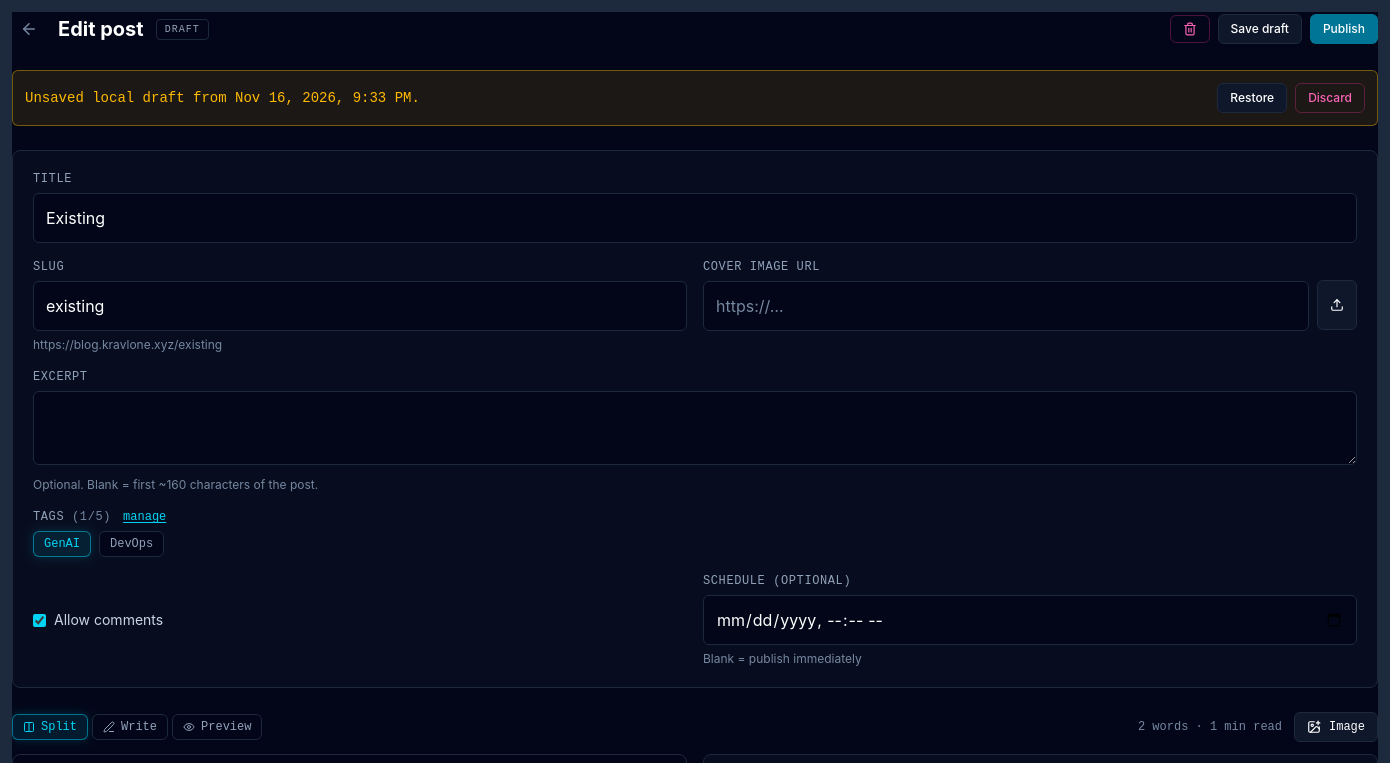
Test: PostEditor › BLG-33 offers to restore a newer local draft
The width and height of the screenshot is (1390, 763).
What coordinates should you click on to do the following:
click the button "Restore"
I would click on:
 (1252, 98)
Its box is [1217, 83, 1287, 113].
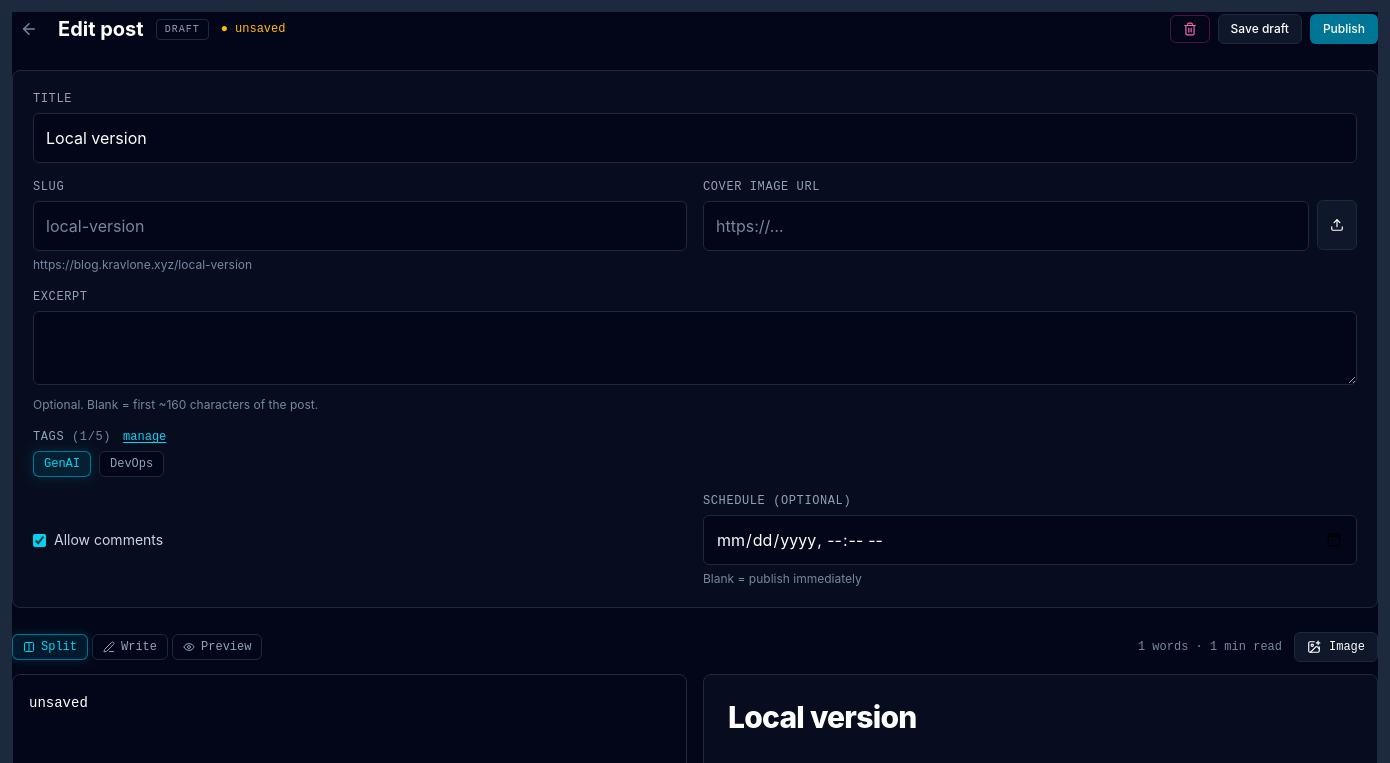
Now the field labelled "Title" holds "Local version", box [33, 113, 1357, 163]
